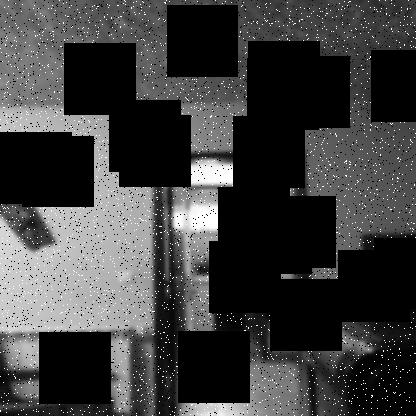Porte: (151, 148, 313, 415)
